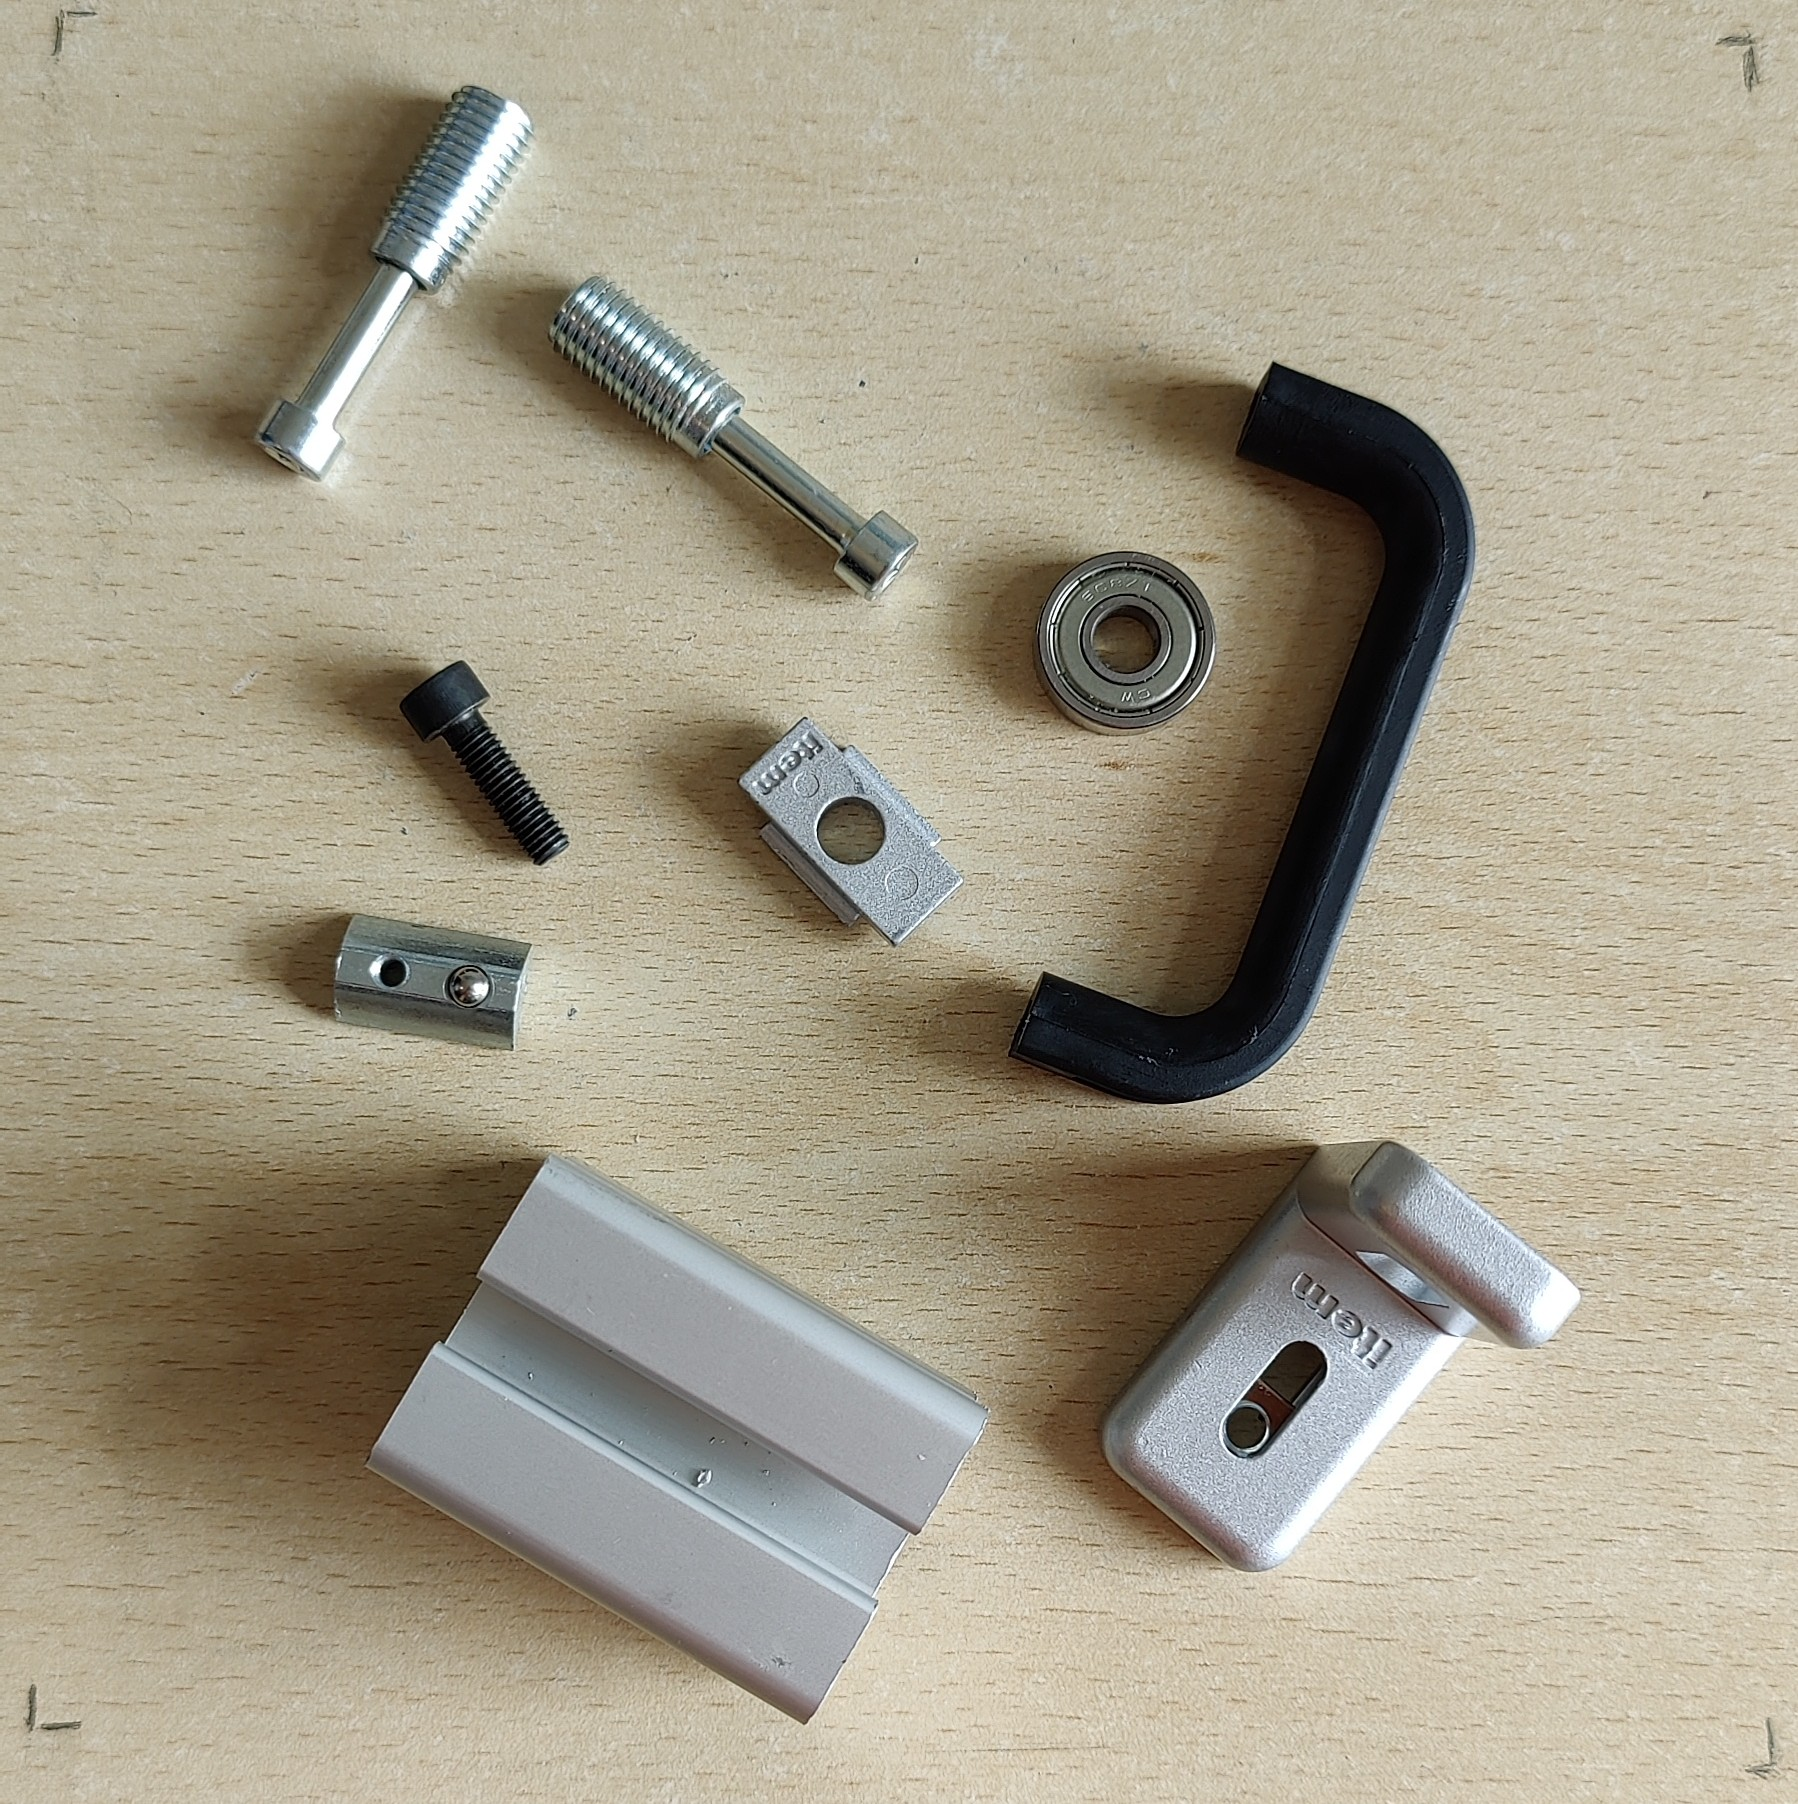Aluminium Extension: (359, 1152, 993, 1727)
Ball Bearing: (1026, 551, 1218, 736)
Multiwinkel: (1098, 1141, 1581, 1575)
Pull Handle: (1004, 356, 1480, 1108)
Shoulder Socket Head Cap Screw: (547, 270, 920, 604), (250, 84, 537, 484)
Socket Head Cap Screw: (398, 660, 571, 871)
T Nut Square: (738, 716, 965, 950)
T Spring Nut: (329, 912, 538, 1055)
